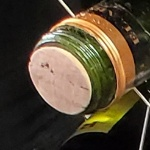bottle: (8, 17, 129, 132)
